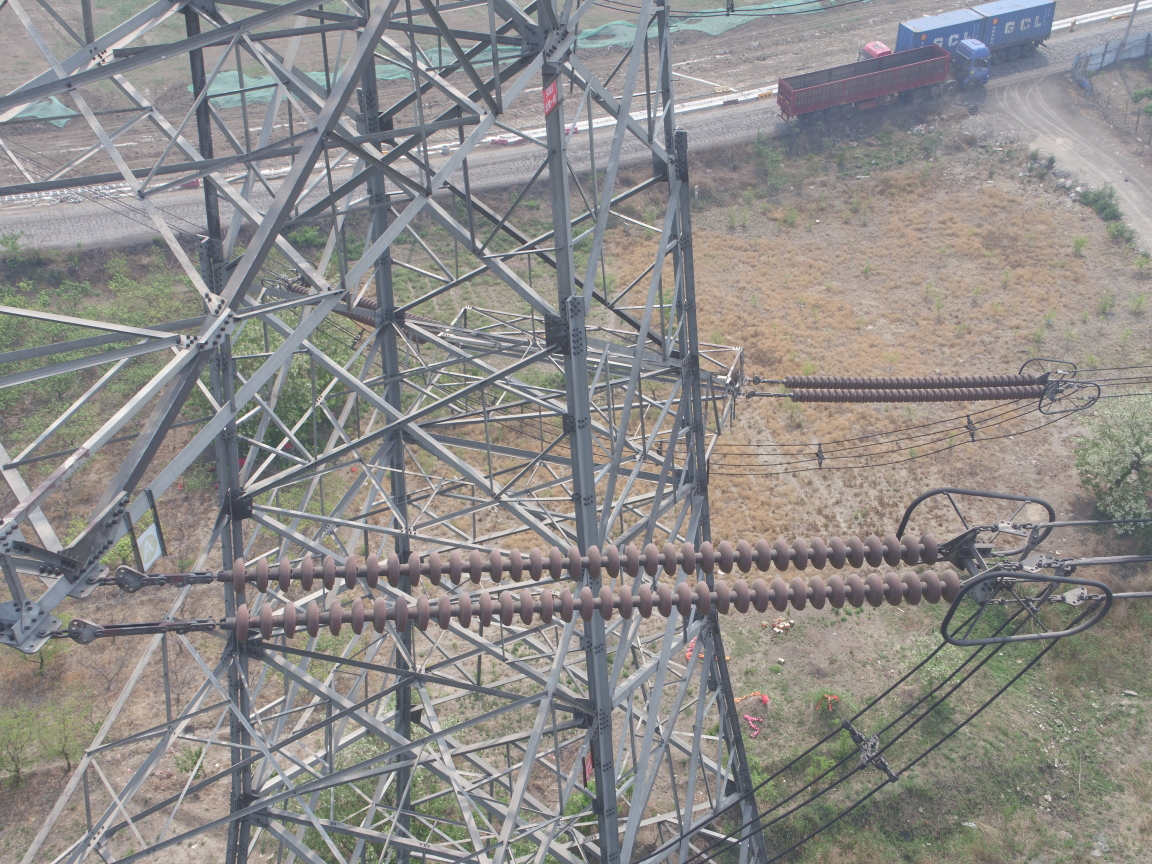insulator: (158, 524, 979, 645), (763, 368, 1052, 404)
